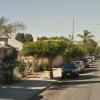Car: (56, 60, 85, 83)
